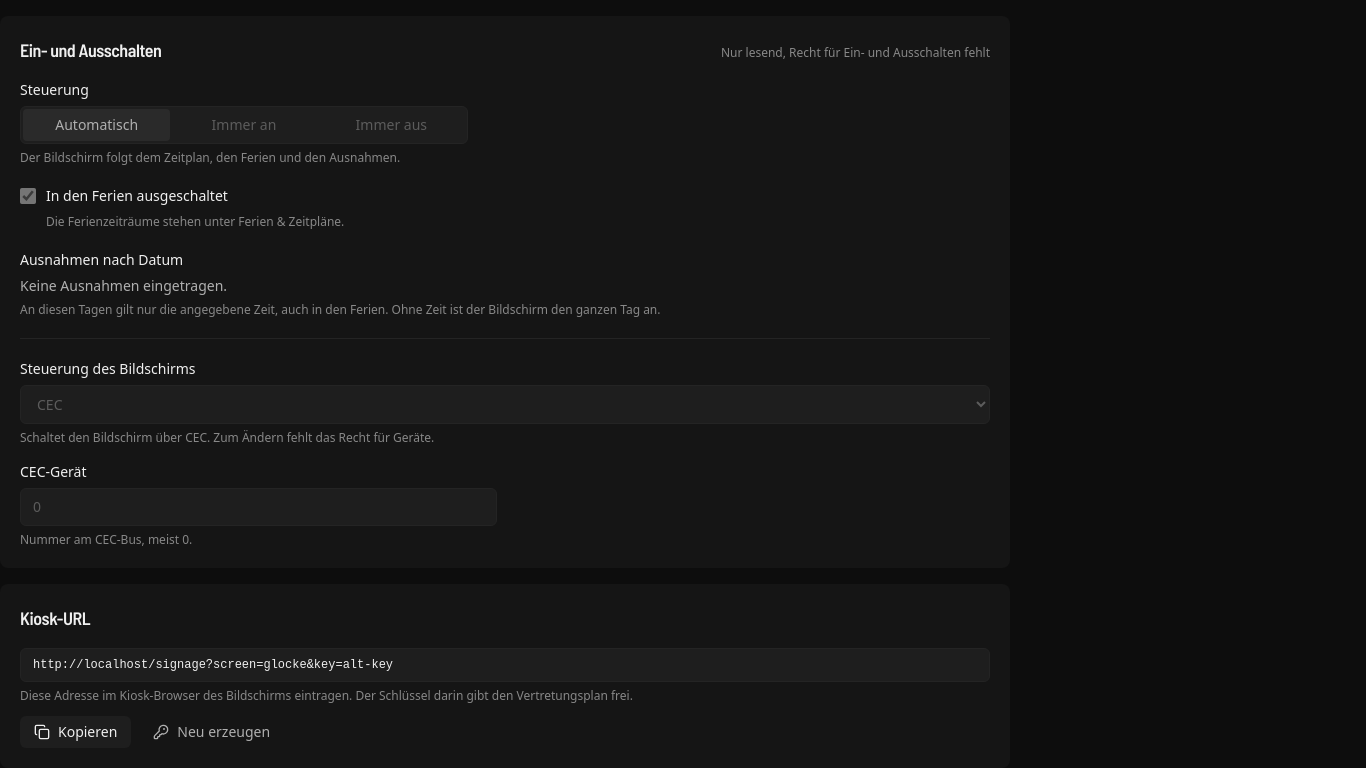
ScreenDetail › erzeugt nach Bestätigung einen neuen Schlüssel und zeigt die neue URL
(page scrolled)
Click the button "Neu erzeugen": click(212, 732) 139,716 -> 284,748
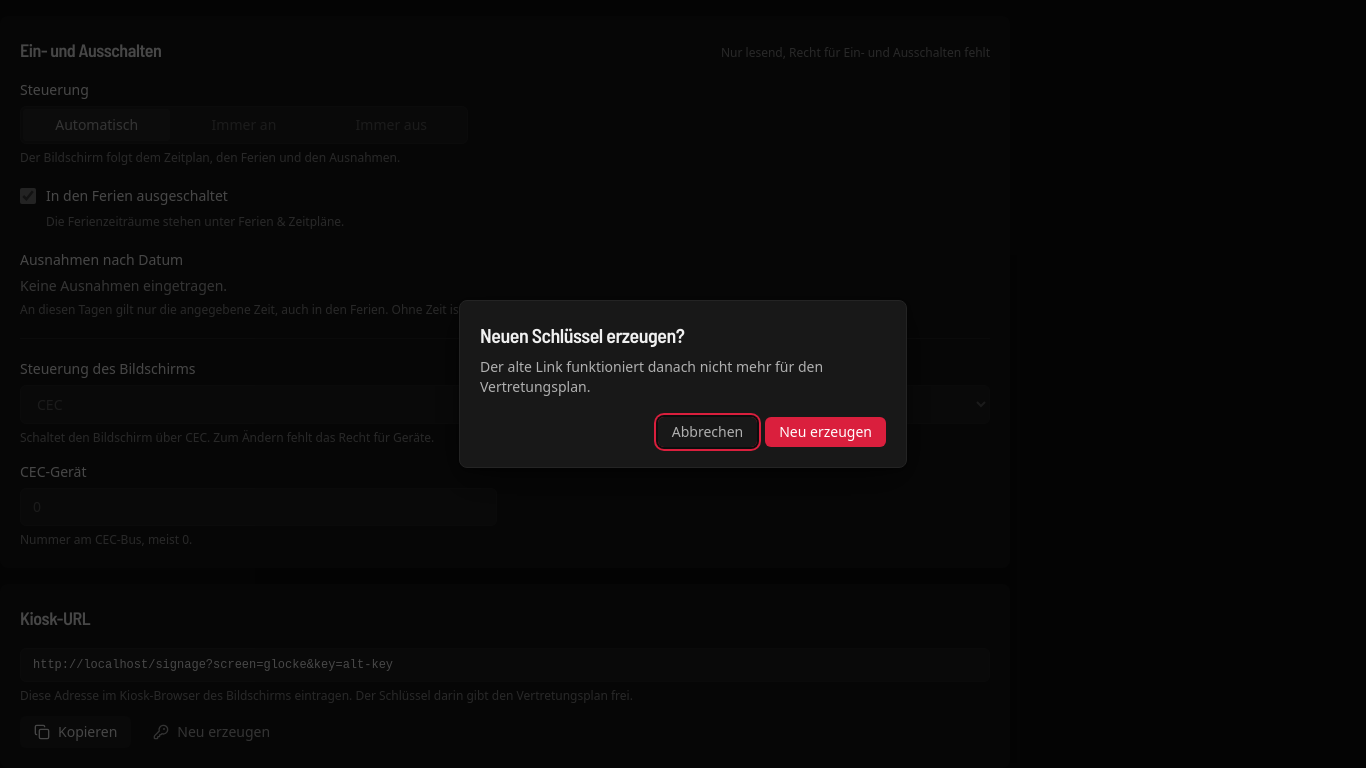
expect the dialog shows "Der alte Link funktioniert danach nicht mehr für den Vertretungsplan.": met, box 480,357 -> 823,396
Click the button "Neu erzeugen": click(826, 432) 765,417 -> 886,447
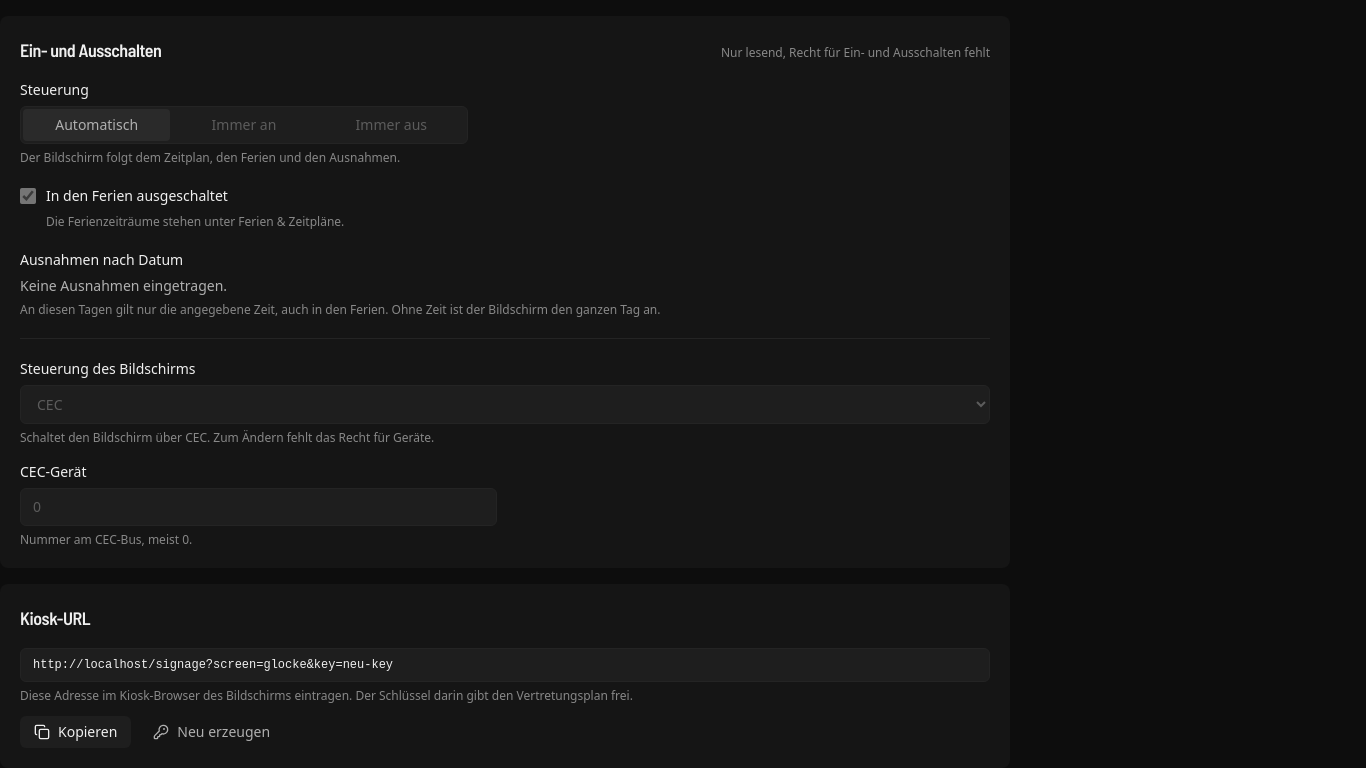
expect the dialog is gone: met
